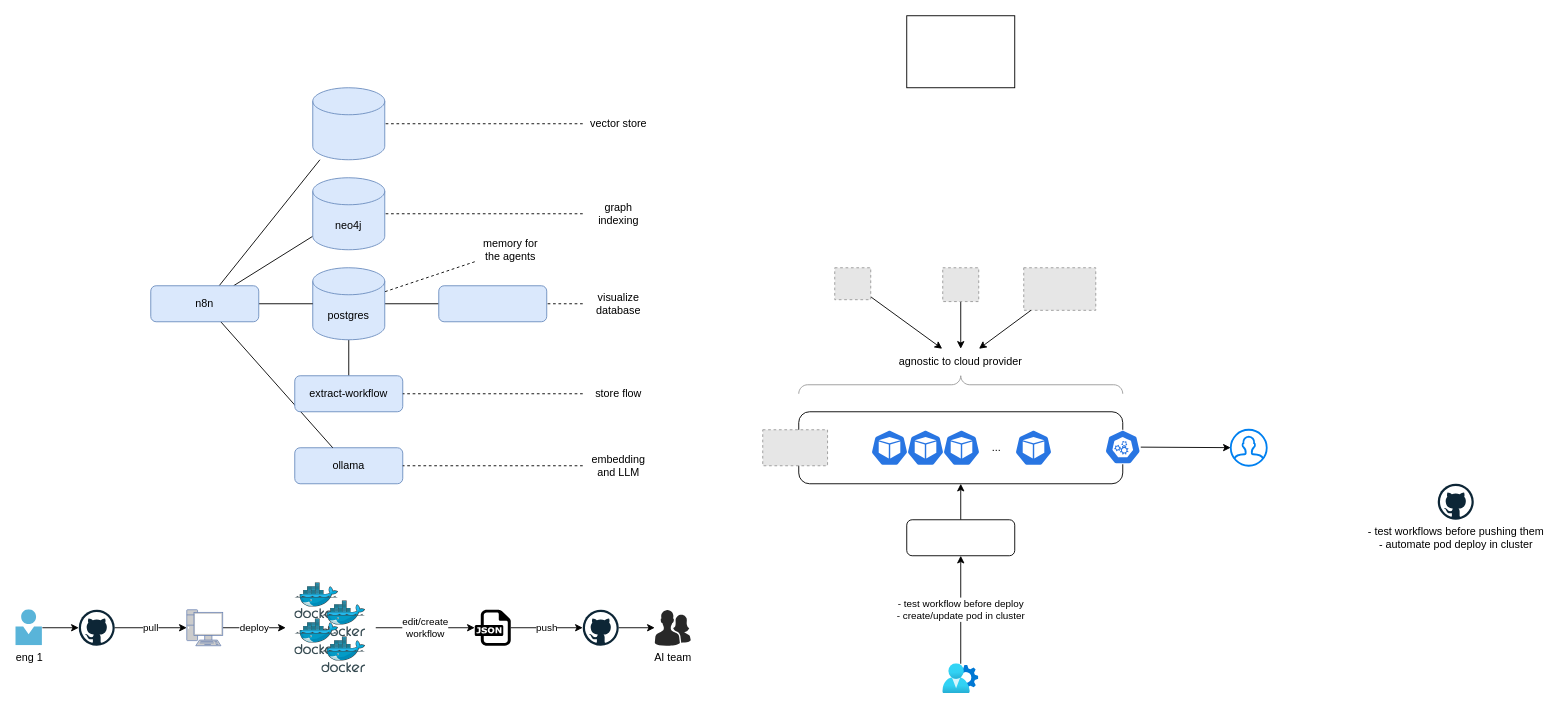
The diagram is 1559 pixels wide and 709 high, and some of its shapes have lost their labels. Grey dashed boxes stand in for pictures. The centre of each missing label's shape, as x and y in pixels:
"CI/CD" belongs at (960,537).
"clients" belongs at (1248,447).
"pgadmin4" belongs at (492,303).
"qdrant" belongs at (348,123).
